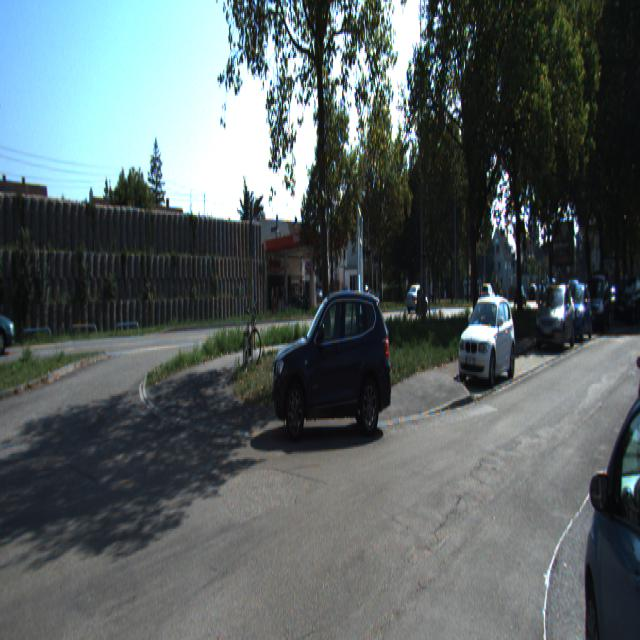Car: (268, 276, 396, 444), (584, 328, 639, 638), (456, 292, 518, 386), (533, 282, 577, 353), (0, 282, 16, 352), (634, 294, 640, 479), (405, 283, 429, 316)
